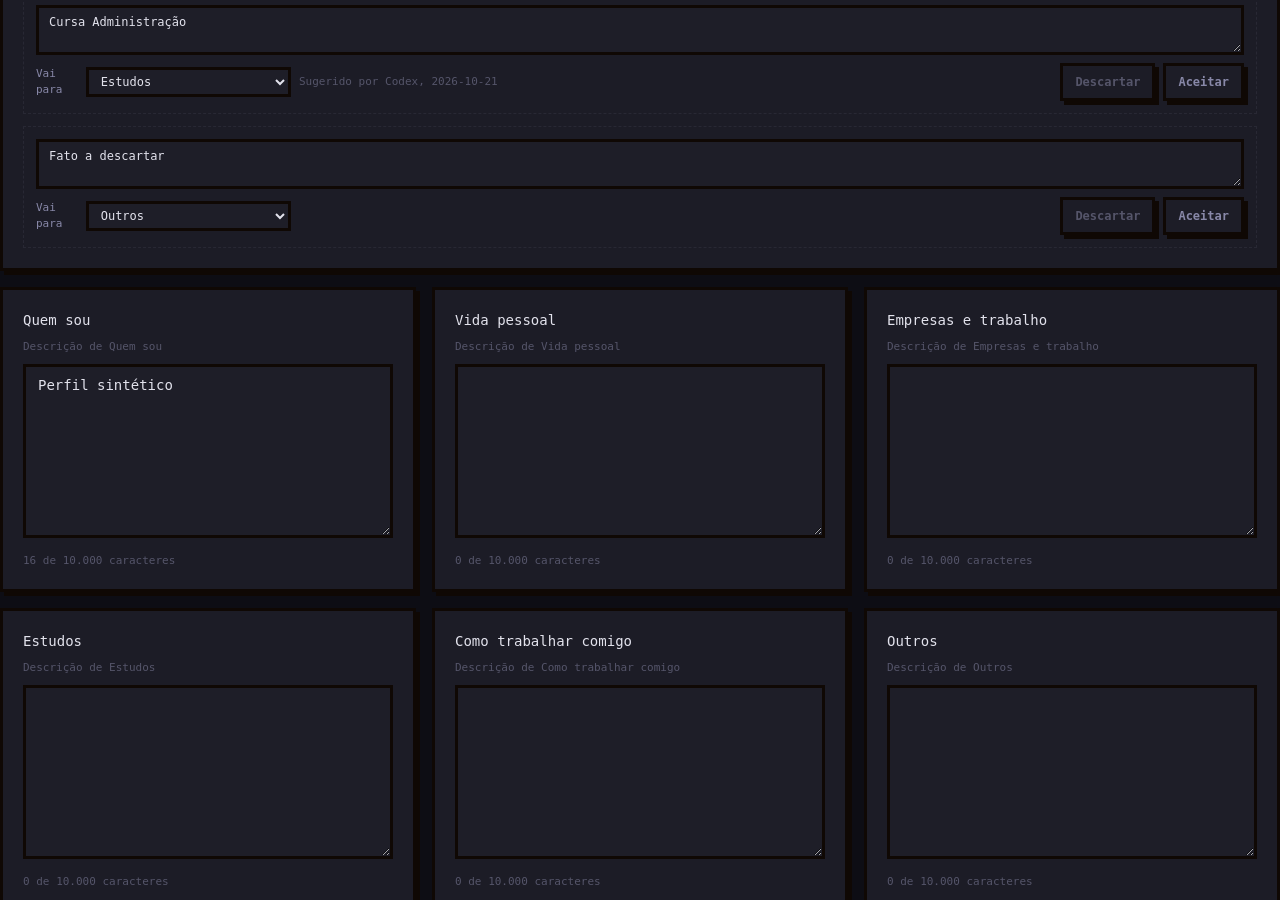
Scenario: mostra as seis áreas e salva sozinho o que foi digitado
The width and height of the screenshot is (1280, 900).
(page scrolled)
Expected: the text box labelled "Quem sou" holds "Perfil sintético", [23,364,393,538]
Expected: the text box labelled "Vida pessoal" is shown, [455,364,825,538]
Type "Sócio da Medza" into the text box labelled "Empresas e trabalho". click: (1072, 451)
box: [887,364,1257,538]
Wait 1000 ms
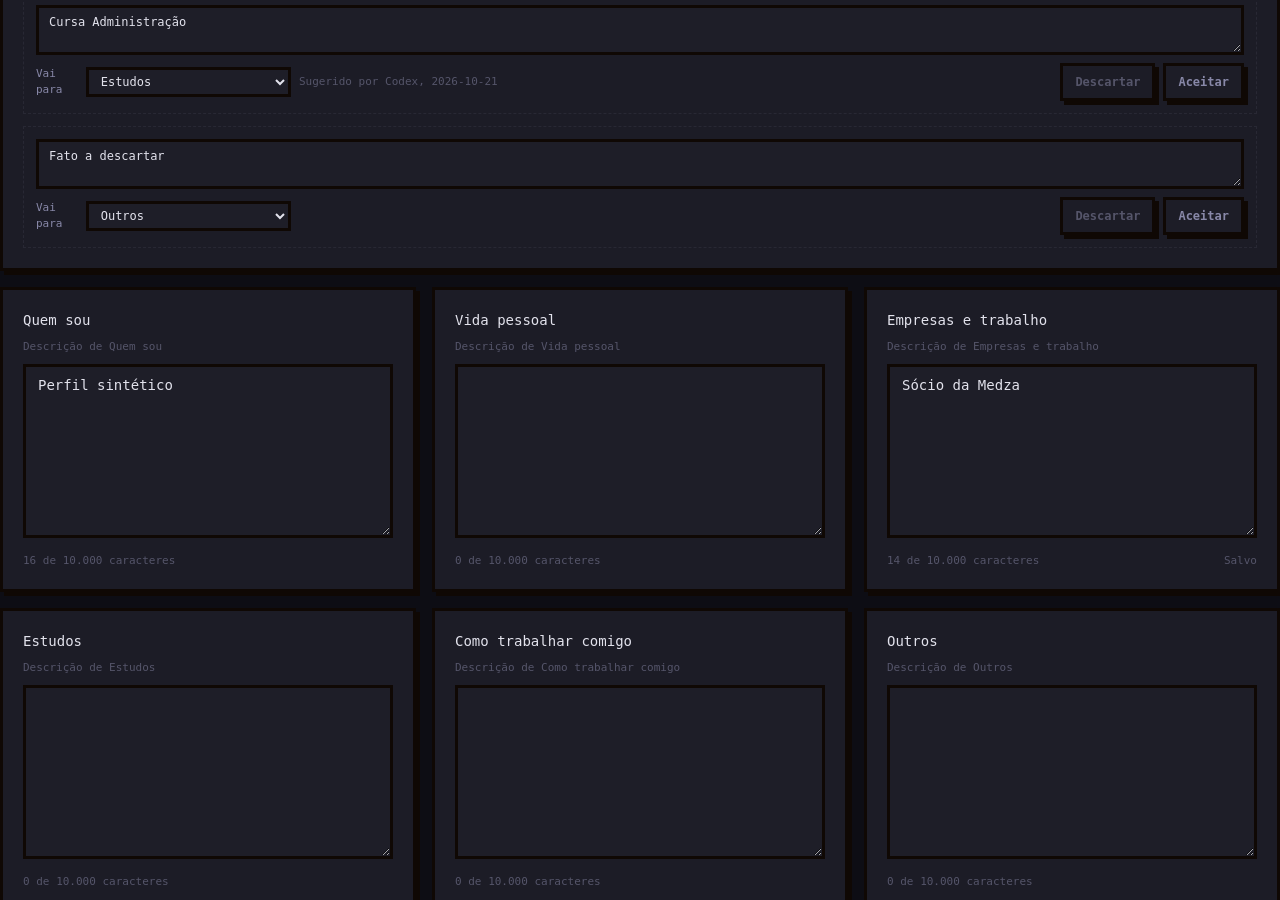
Expected: the text "Salvo" is shown, [1224,553,1257,569]
